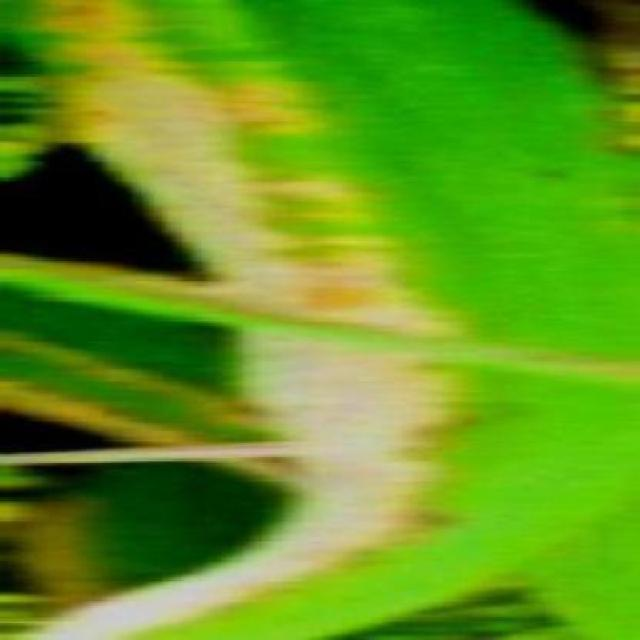Brown_Spot: (144, 1, 639, 602), (0, 586, 538, 639)
